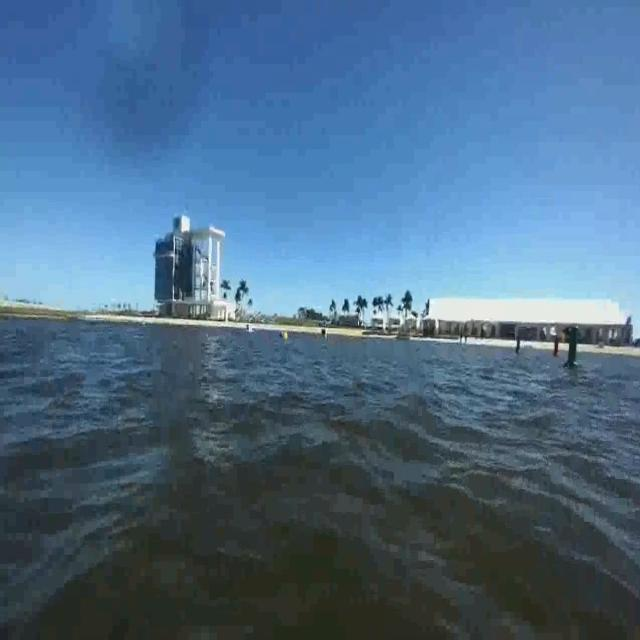green-column-buoy: (565, 325, 582, 369)
yellow-buoy: (283, 332, 289, 344)
